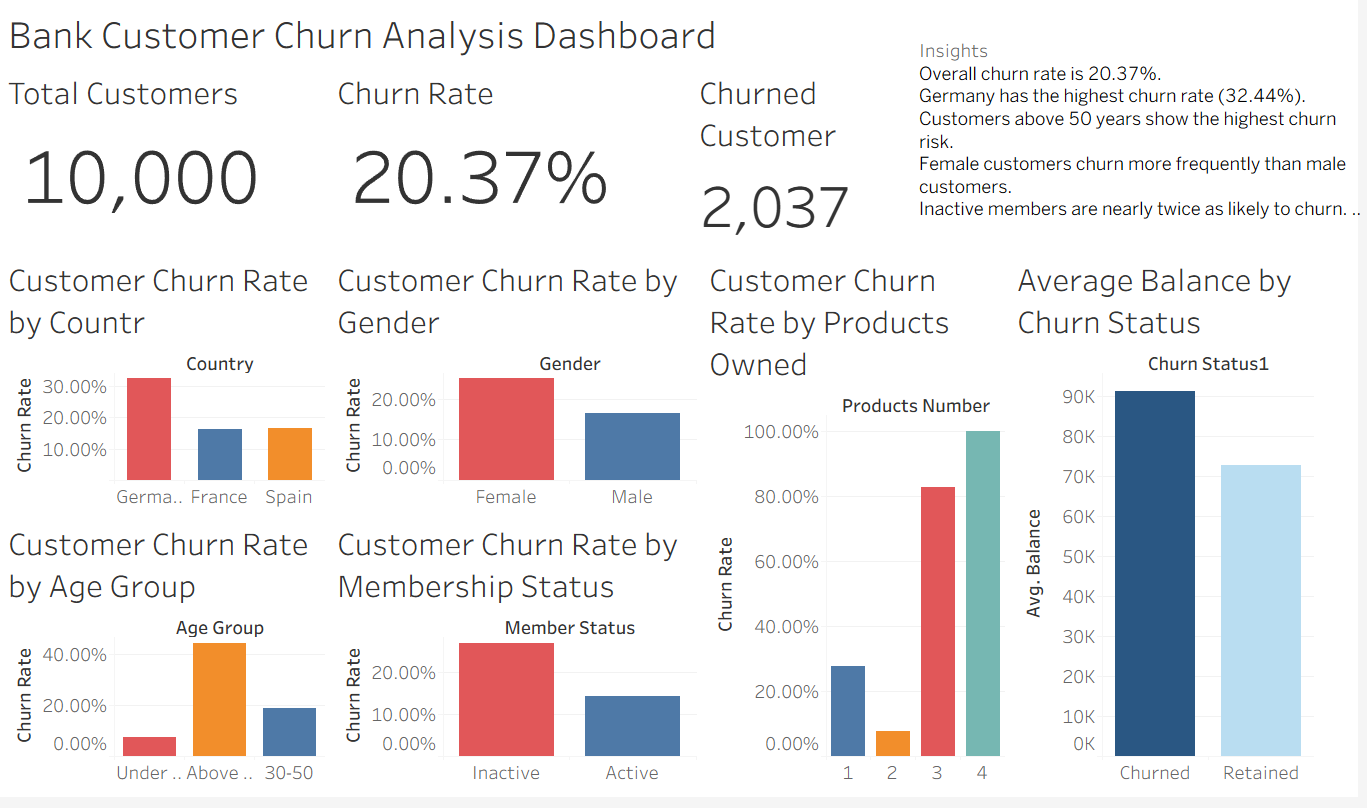

This screenshot's page, from the dashboard's own definition file:
{"tool":"tableau","page":{"name":"Bank Customer Churn Analysis Dashboard","canvas":[1000,1000],"units":"permille","ordinal":0},"visuals":[{"type":"title","box":[5.9,10,964.9,72.5]},{"type":"worksheet","title":"Total Customers","mark":"Automatic","box":[5.9,82.5,241.1,234.1]},{"type":"worksheet","title":"Churn Rate","mark":"Automatic","box":[246.9,82.5,265,234.1]},{"type":"worksheet","title":"Churned Customers","mark":"Automatic","box":[511.9,82.5,458.8,234.1]},{"type":"worksheet","title":"Customer Churn Rate by Countr","mark":"Automatic","rows":["Calculation_2304035152609282"],"cols":["country"],"box":[5.9,316.6,241.1,329.3]},{"type":"worksheet","title":"Customer Churn Rate by Gender","mark":"Automatic","rows":["Calculation_2304035152609282"],"cols":["gender"],"box":[246.9,316.6,272.2,329.3]},{"type":"worksheet","title":"Customer Churn Rate by Products Owned","mark":"Automatic","rows":["Calculation_2304035152609282"],"cols":["products_number"],"box":[519.1,316.6,225.8,673.4]},{"type":"worksheet","title":"Average Balance by Churn Status","mark":"Bar","rows":["balance"],"cols":["Calculation_2304035194490886"],"box":[744.9,316.6,225.9,673.4]},{"type":"worksheet","title":"Customer Churn Rate by Age Group","mark":"Automatic","rows":["Calculation_2304035152609282"],"cols":["Calculation_2304035155566595"],"box":[5.9,645.9,241.1,344.1]},{"type":"worksheet","title":"Customer Churn Rate by Membership Status","mark":"Automatic","rows":["Calculation_2304035152609282"],"cols":["Calculation_2304035157139460"],"box":[246.9,645.9,272.2,344.1]}]}

Visuals, with their boxes on the dashboard's canvas, which has no fixed pixel size, in thousandths of its width and height (x1, y1, x2, y2). These are canvas units, not pixel positions in the 1367x808 screenshot, which may show the page scaled, cropped or inside an application window:
title: x1=6 y1=10 x2=971 y2=82
"Total Customers" worksheet: x1=6 y1=82 x2=247 y2=317
"Churn Rate" worksheet: x1=247 y1=82 x2=512 y2=317
"Churned Customers" worksheet: x1=512 y1=82 x2=971 y2=317
"Customer Churn Rate by Countr" worksheet: x1=6 y1=317 x2=247 y2=646
"Customer Churn Rate by Gender" worksheet: x1=247 y1=317 x2=519 y2=646
"Customer Churn Rate by Products Owned" worksheet: x1=519 y1=317 x2=745 y2=990
"Average Balance by Churn Status" worksheet (Bar marks): x1=745 y1=317 x2=971 y2=990
"Customer Churn Rate by Age Group" worksheet: x1=6 y1=646 x2=247 y2=990
"Customer Churn Rate by Membership Status" worksheet: x1=247 y1=646 x2=519 y2=990
